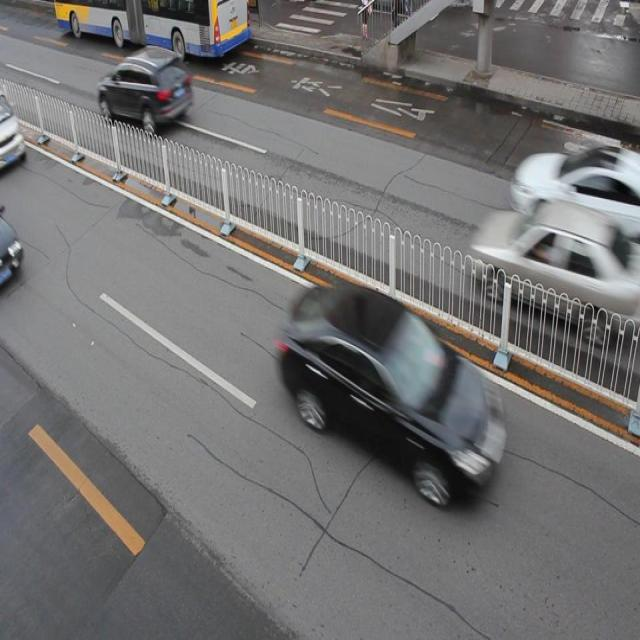car: (276, 281, 499, 498), (474, 201, 640, 338), (510, 144, 640, 240), (97, 44, 194, 131), (1, 208, 24, 298)
truck: (1, 86, 27, 178)
van: (54, 1, 249, 59)
